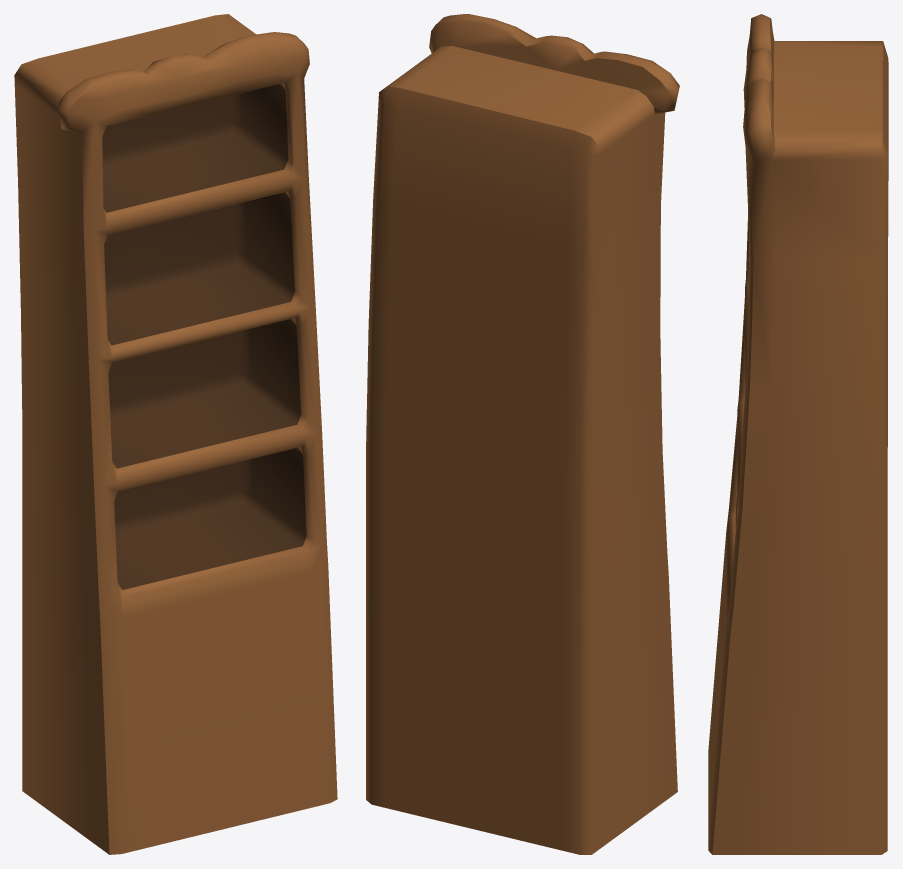
Rendered from LargeShelfLeft.fbx.
3 renders of one model, left to right at view 1: azimuth 30°, elevation 25°; view 2: azimuth 150°, elevation 25°; view 3: azimuth 270°, elevation 25°, orthographic. The views are drawn at different scales.
Parts seen in each view (by area): view 1: LargeShelfLeft; view 2: LargeShelfLeft; view 3: LargeShelfLeft.
Part boxes in pixels (bbox=[...]): LargeShelfLeft: bbox=[14, 14, 337, 854]; LargeShelfLeft: bbox=[366, 14, 679, 854]; LargeShelfLeft: bbox=[708, 14, 888, 854].
Bounding box in the file's own units: 41.64 × 119 × 26.35.
